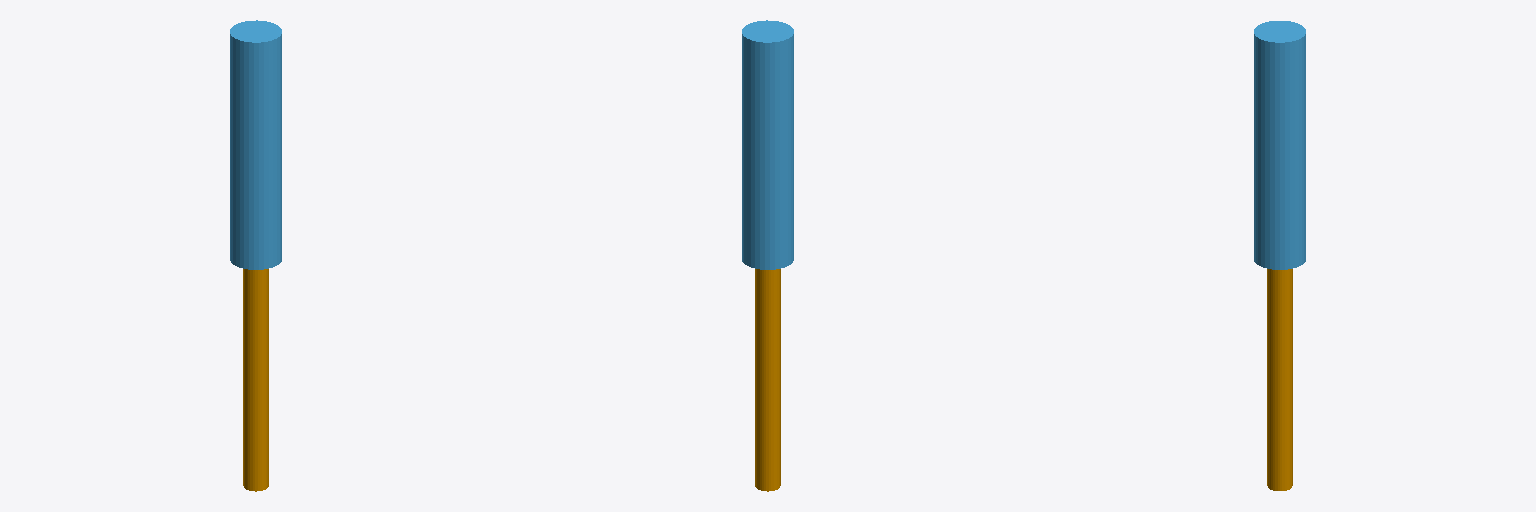
The robot description file, URDF, robot "screwdriver_on_the_table":
<?xml version="1.0" ?>
<!-- this is the one without any virtual joints and links -->
<robot name="screwdriver_on_the_table">
<link name="screwdriver_stick">
    <inertial>
      <mass value="0.05"/>
      <!-- <friction value="1.0"/> -->
      <inertia ixx="0.000041979" ixy="0.0" ixz="0.0" iyy="0.000041979" iyz="0.0" izz="0.000000625"/>
    </inertial>
    <visual>
        <origin rpy="0 0 0" xyz="0 0 0.05"/>
        <geometry>
            <cylinder radius="0.005" length="0.1"/>
        </geometry>
        <!-- <material name="White">
	 	    <color rgba="0.9 0.9 0.9 0.5"/>
        </material> -->
    </visual>
    <collision>
        <origin rpy="0 0 0" xyz="0 0 0.05"/>
        <geometry>
            <cylinder radius="0.005" length="0.1"/>
        </geometry>
    </collision>
</link>

<gazebo reference="screwdriver_body">
    <mu1>1.0</mu1>
    <mu2>1.0</mu2>
    <!-- Isaac Sim maps mu1/mu2 to PhysX static/dynamic friction during URDF→USD import -->
</gazebo>

<joint name="screwdriver_stick_body_joint" type="fixed">
    <parent link="screwdriver_stick"/>
    <child link="screwdriver_body"/>
    <origin rpy="0 0 0" xyz="0 0 0.1"/> 
    <axis xyz="0 0 1"/>
</joint>

<link name="screwdriver_body">
    <inertial>
      <mass value="0.1"/>
      <inertia ixx="0.000086090" ixy="0.0" ixz="0.0" iyy="0.000086090" iyz="0.0" izz="0.000010000"/>
    </inertial>
    <visual>
        <origin rpy="0 0 0" xyz="0 0 0.05"/>
        <geometry>
            <cylinder radius="0.010500" length="0.1"/>
        </geometry>
        <!-- <material name="Red1">
	 	    <color rgba="0.9 0. 0. 0.5"/>
        </material> -->
    </visual>
    <collision>
        <origin rpy="0 0 0" xyz="0 0 0.05"/>
        <geometry>
            <cylinder radius="0.010500" length="0.1"/>
        </geometry>
    </collision>
</link>

<!-- <joint name="screwdriver_body_cap_joint" type="revolute">
    <parent link="screwdriver_body"/>
    <child link="screwdriver_cap"/>
    <origin rpy="0 0 0" xyz="0 0 0.1"/> 
    <axis xyz="0 0 1"/>
</joint>

<link name="screwdriver_cap">
    <inertial>
      <mass value="0.005"/>
      <inertia ixx="0.00001" ixy="0.0" ixz="0.0" iyy="0.000005" iyz="0.0" izz="0.000005"/>
    </inertial>
    <visual>
        <origin rpy="0 0 0" xyz="0 0 0.0006"/>
        <geometry>
            <cylinder radius="0.02" length="0.001"/>
        </geometry>
        <material name="Yellow">
	 	    <color rgba="0.9 0.9 0. 1.0"/>
        </material>
    </visual>
    <collision>
        <origin rpy="0 0 0" xyz="0 0 0.0005"/>
        <geometry>
            <cylinder radius="0.02" length="0.001"/>
        </geometry>
    </collision>
</link> -->

</robot>

--- What the picture shows (computed from the rendered views, not written in the file) ---
Views: 3 orthographic renders of the robot side by side, from view 1: azimuth 30°, elevation 25°; view 2: azimuth 150°, elevation 25°; view 3: azimuth 270°, elevation 25°.
Model screwdriver_on_the_table with 2 links and 1 joints (1 fixed), rooted at screwdriver_stick, posed every joint at zero.
Visible links, largest first — view 1: screwdriver_body, screwdriver_stick; view 2: screwdriver_body, screwdriver_stick; view 3: screwdriver_body, screwdriver_stick.
Link boxes in pixels (left/top/right/bottom): screwdriver_body: left=230, top=20, right=281, bottom=269; screwdriver_stick: left=243, top=269, right=268, bottom=491; screwdriver_body: left=742, top=20, right=793, bottom=269; screwdriver_stick: left=755, top=269, right=780, bottom=491; screwdriver_body: left=1254, top=21, right=1305, bottom=269; screwdriver_stick: left=1267, top=269, right=1292, bottom=490.
Size in the robot's own frame: 0.021 by 0.021 by 0.2 metres.
Geometry: primitives only (box / cylinder / sphere), no mesh files.
